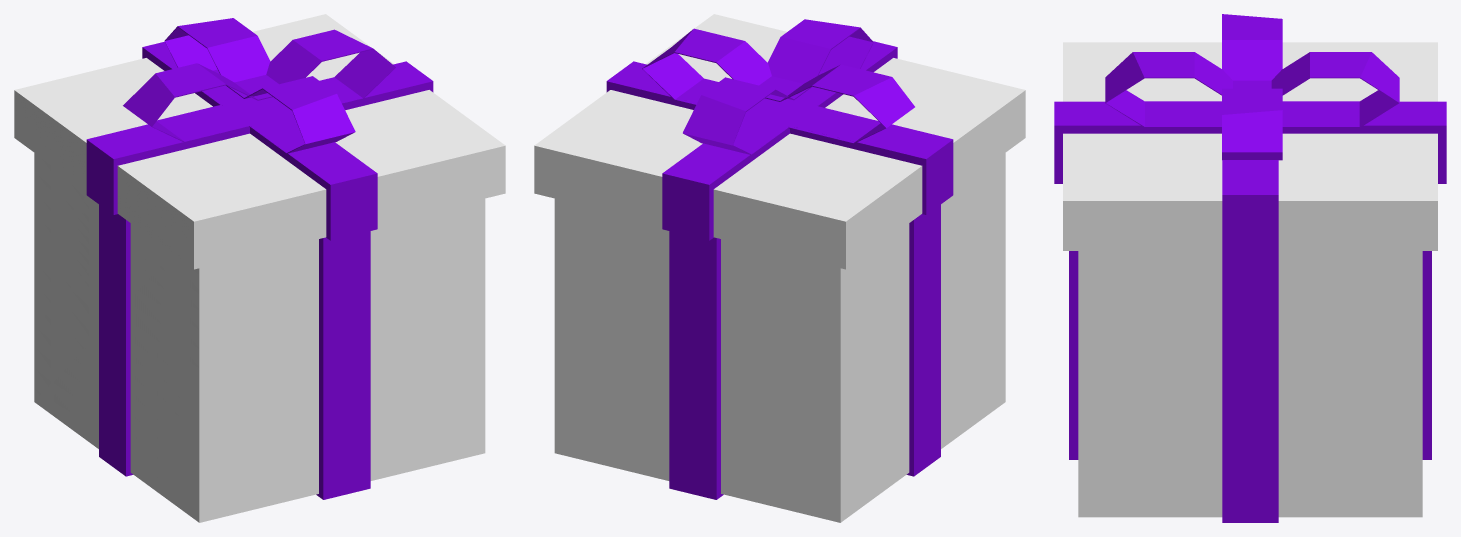
File: giftbox.glb
3 views of the same model, side by side, from view 1: azimuth 30°, elevation 25°; view 2: azimuth 150°, elevation 25°; view 3: azimuth 270°, elevation 25° (orthographic). The views are drawn at different scales.
Parts seen in each view (by area): view 1: Object_2, Object_3; view 2: Object_2, Object_3; view 3: Object_2, Object_3.
Boxes of the visible parts, left/top/right/bottom form: Object_2: left=14, top=14, right=505, bottom=522; Object_3: left=86, top=18, right=433, bottom=499; Object_2: left=534, top=14, right=1025, bottom=522; Object_3: left=606, top=19, right=953, bottom=499; Object_2: left=1063, top=42, right=1437, bottom=517; Object_3: left=1054, top=14, right=1446, bottom=522.
Bounding box in the file's own units: 2.12 × 2.34 × 2.17.
